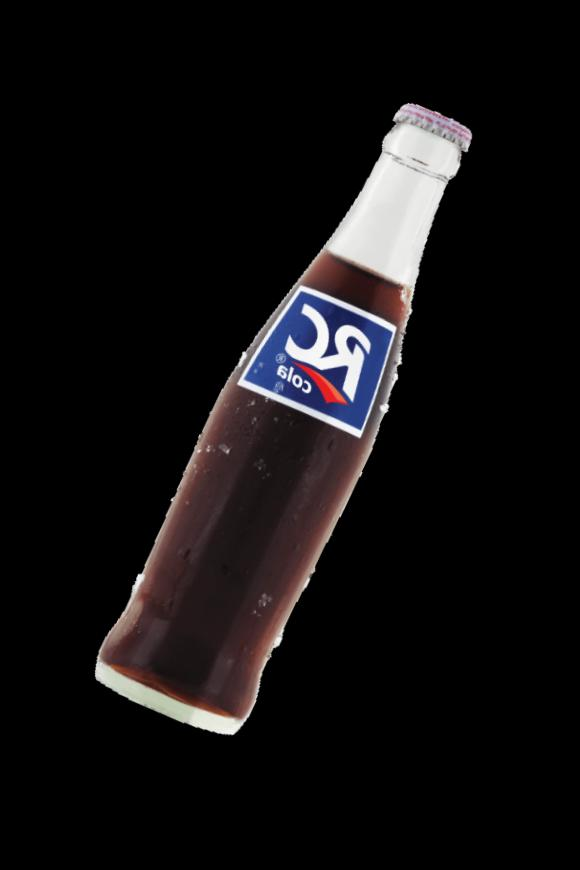glass: (68, 67, 526, 759)
